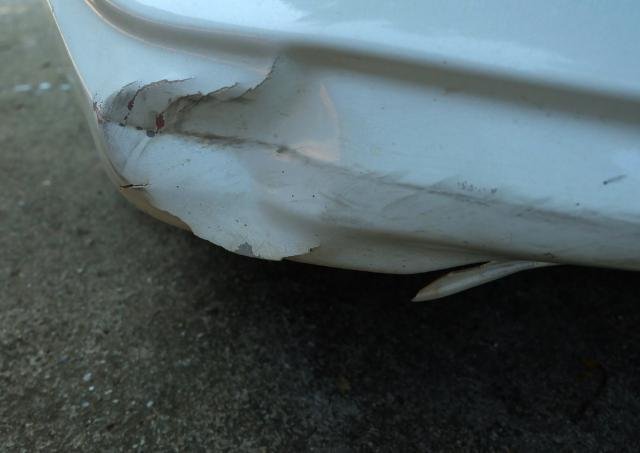dent: (96, 49, 350, 261)
